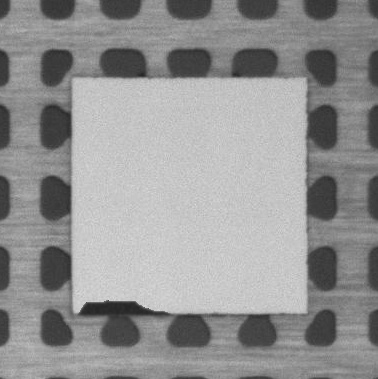DIE_BROKEN: (77, 297, 175, 316)
